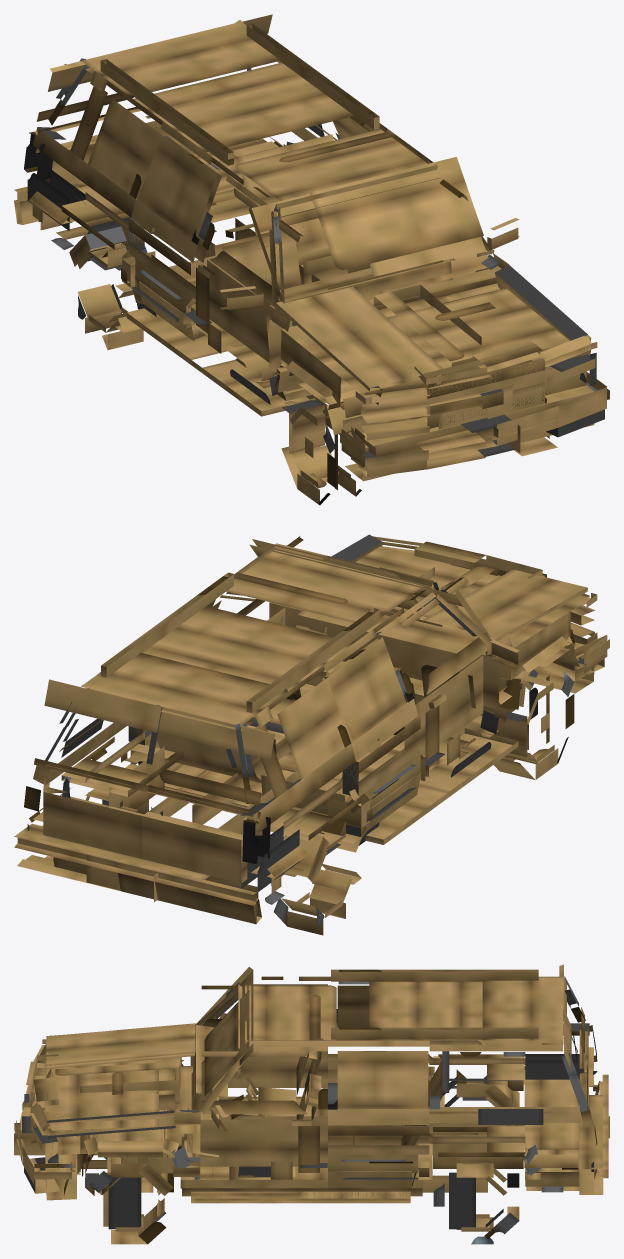
File: pickup.obj
3 renders of one model, top to bottom at view 1: azimuth 30°, elevation 25°; view 2: azimuth 150°, elevation 25°; view 3: azimuth 270°, elevation 25°, orthographic. The views are drawn at different scales.
Visible parts, largest first — view 1: body, w2, w1; view 2: body, w2, w1; view 3: body, w3, w4, w2.
Part boxes in pixels (<box>): body: <box>14,14,609,481</box>; w2: <box>69,226,147,349</box>; w1: <box>281,400,361,505</box>; body: <box>14,534,609,924</box>; w2: <box>271,811,361,935</box>; w1: <box>493,669,574,779</box>; body: <box>14,964,609,1203</box>; w3: <box>85,1157,173,1244</box>; w4: <box>433,1162,519,1244</box>; w2: <box>440,1069,519,1106</box>.
Bounding box in the file's own units: 3.25 × 2.52 × 6.9.
